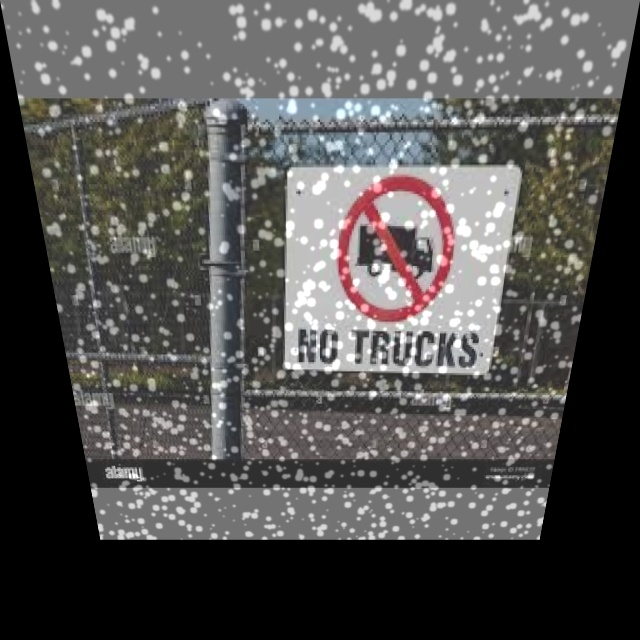Truck_Prohibited: (331, 171, 466, 325)
